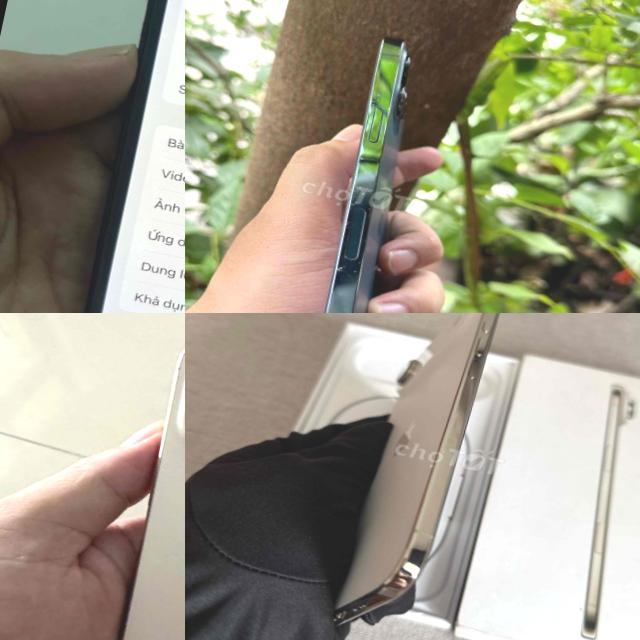scratch: (295, 244, 376, 313)
